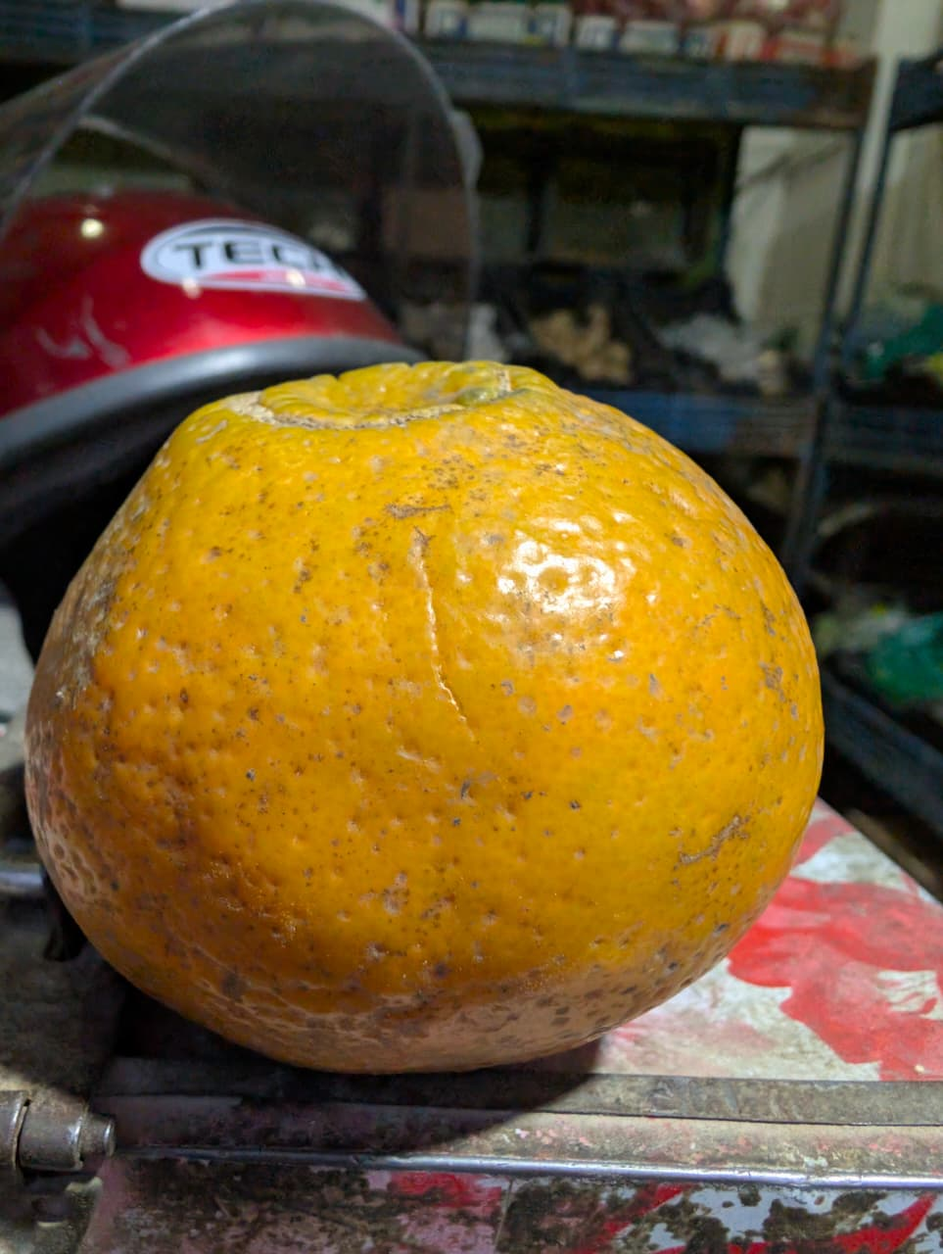orange: (120, 181, 911, 1208)
